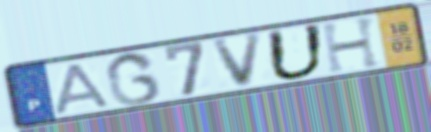7: (161, 40, 208, 99)
A: (53, 60, 113, 116)
G: (103, 49, 164, 107)
H: (318, 14, 384, 76)
U: (264, 22, 328, 82)
V: (210, 30, 267, 91)
